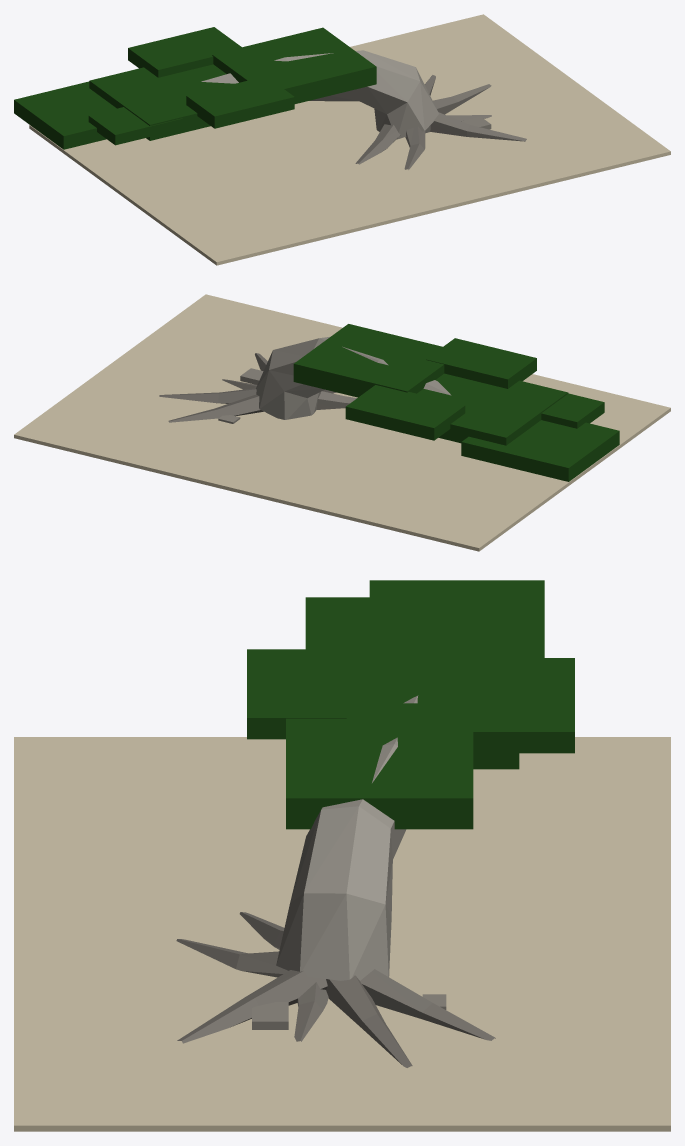
Rendered from eb_fofoti_11.glb.
3 views of the same model, one above another, from view 1: azimuth 30°, elevation 25°; view 2: azimuth 150°, elevation 25°; view 3: azimuth 270°, elevation 25° (orthographic). The views are drawn at different scales.
Visible parts, largest first — view 1: eb_fofoti_11_lod0; view 2: eb_fofoti_11_lod0; view 3: eb_fofoti_11_lod0.
Boxes of the visible parts, left/top/right/bottom form: eb_fofoti_11_lod0: left=14, top=14, right=670, bottom=265; eb_fofoti_11_lod0: left=14, top=294, right=670, bottom=551; eb_fofoti_11_lod0: left=14, top=580, right=670, bottom=1131.
Size of what is drawn, in the model's own units: 15.59 by 2.67 by 10.
